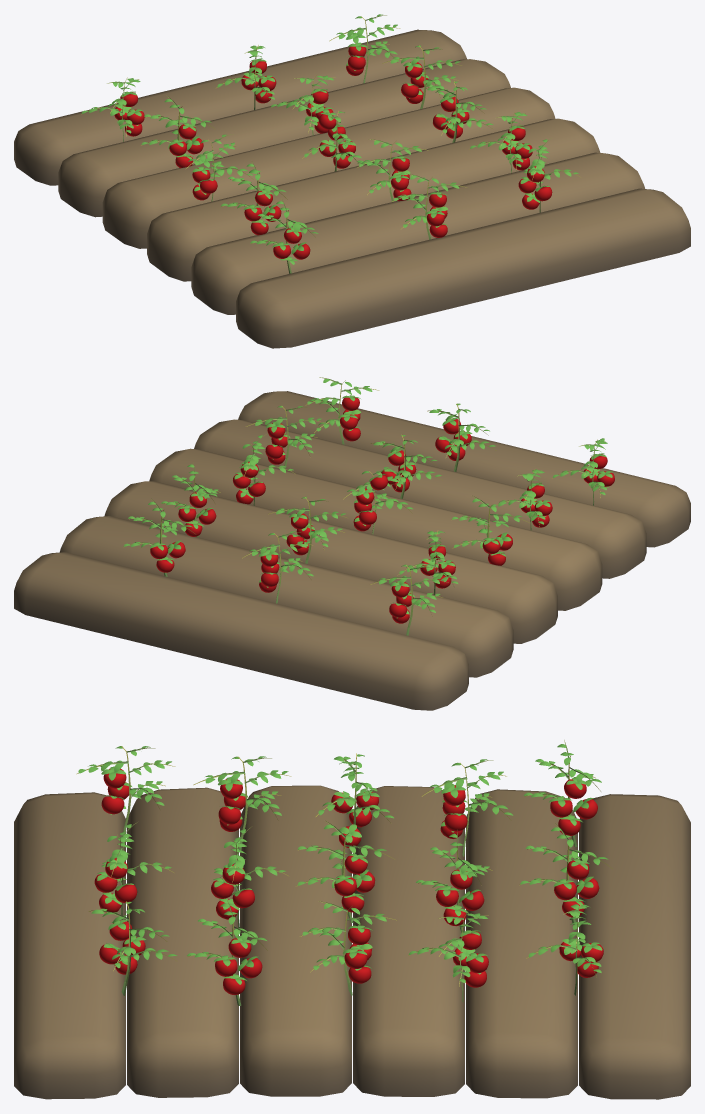
The model's file is SM_Crop_2.fbx.
3 renders of one model, top to bottom at view 1: azimuth 30°, elevation 25°; view 2: azimuth 150°, elevation 25°; view 3: azimuth 270°, elevation 25°, orthographic. The views are drawn at different scales.
Parts seen in each view (by area): view 1: SM_Crop_2; view 2: SM_Crop_2; view 3: SM_Crop_2.
Boxes of the visible parts, x1,y1,x2,y2 form: SM_Crop_2: [14, 14, 690, 348]; SM_Crop_2: [14, 377, 690, 710]; SM_Crop_2: [14, 740, 690, 1099].
Bounding box in the file's own units: 309 × 67.28 × 330.
